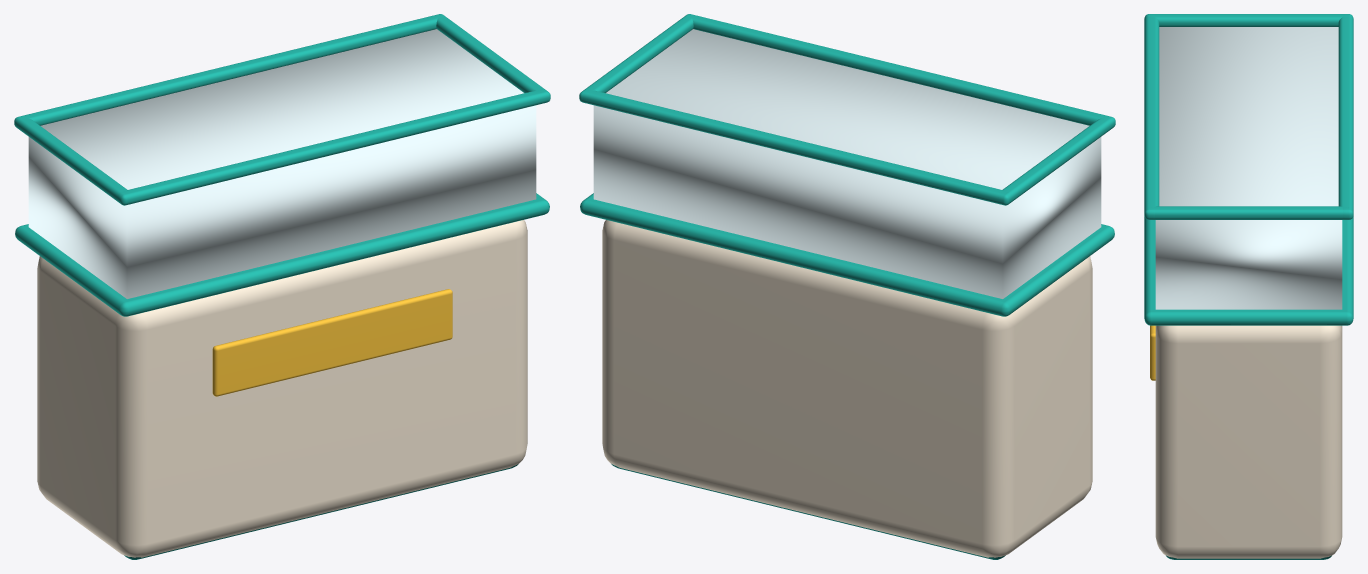
The model's file is ResearchTray.fbx.
3 views of the same model, side by side, from view 1: azimuth 30°, elevation 25°; view 2: azimuth 150°, elevation 25°; view 3: azimuth 270°, elevation 25° (orthographic). The views are drawn at different scales.
Visible parts, largest first — view 1: ResearchTray mesh; view 2: ResearchTray mesh; view 3: ResearchTray mesh.
Boxes of the visible parts, x1,y1,x2,y2 form: ResearchTray mesh: (14,14,550,559); ResearchTray mesh: (579,14,1115,559); ResearchTray mesh: (1144,14,1353,559).
Size of the model in its own units: 1.26 by 1.06 by 0.56.
